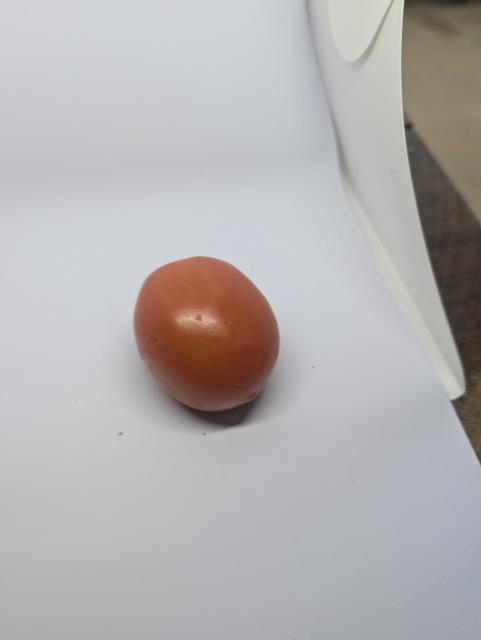red: (115, 228, 323, 447)
